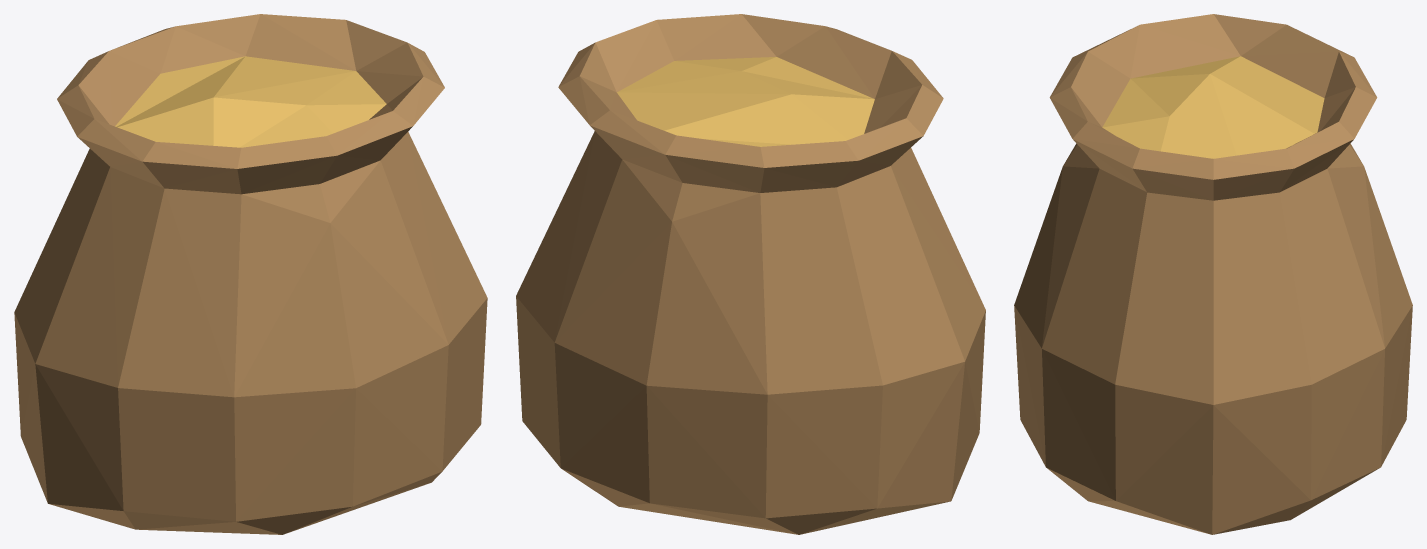
File: Bag.fbx
The picture shows the model from 3 angles, left to right: view 1: azimuth 30°, elevation 25°; view 2: azimuth 150°, elevation 25°; view 3: azimuth 270°, elevation 25°; orthographic projection. The views are drawn at different scales.
Visible parts, largest first — view 1: Bag; view 2: Bag; view 3: Bag.
Part boxes in pixels (x1,y1,x2,y2): Bag: (14, 14, 487, 534); Bag: (516, 14, 985, 534); Bag: (1014, 14, 1412, 534).
Size of the model in its own units: 0.635 by 0.5367 by 0.5361.
